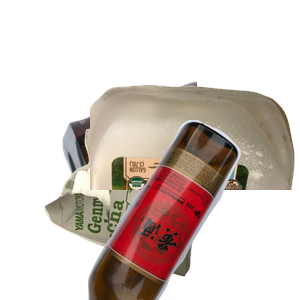glass: (85, 120, 300, 300)
metal: (60, 79, 300, 259)
plastic: (90, 82, 300, 262)
trash: (42, 126, 249, 300)
